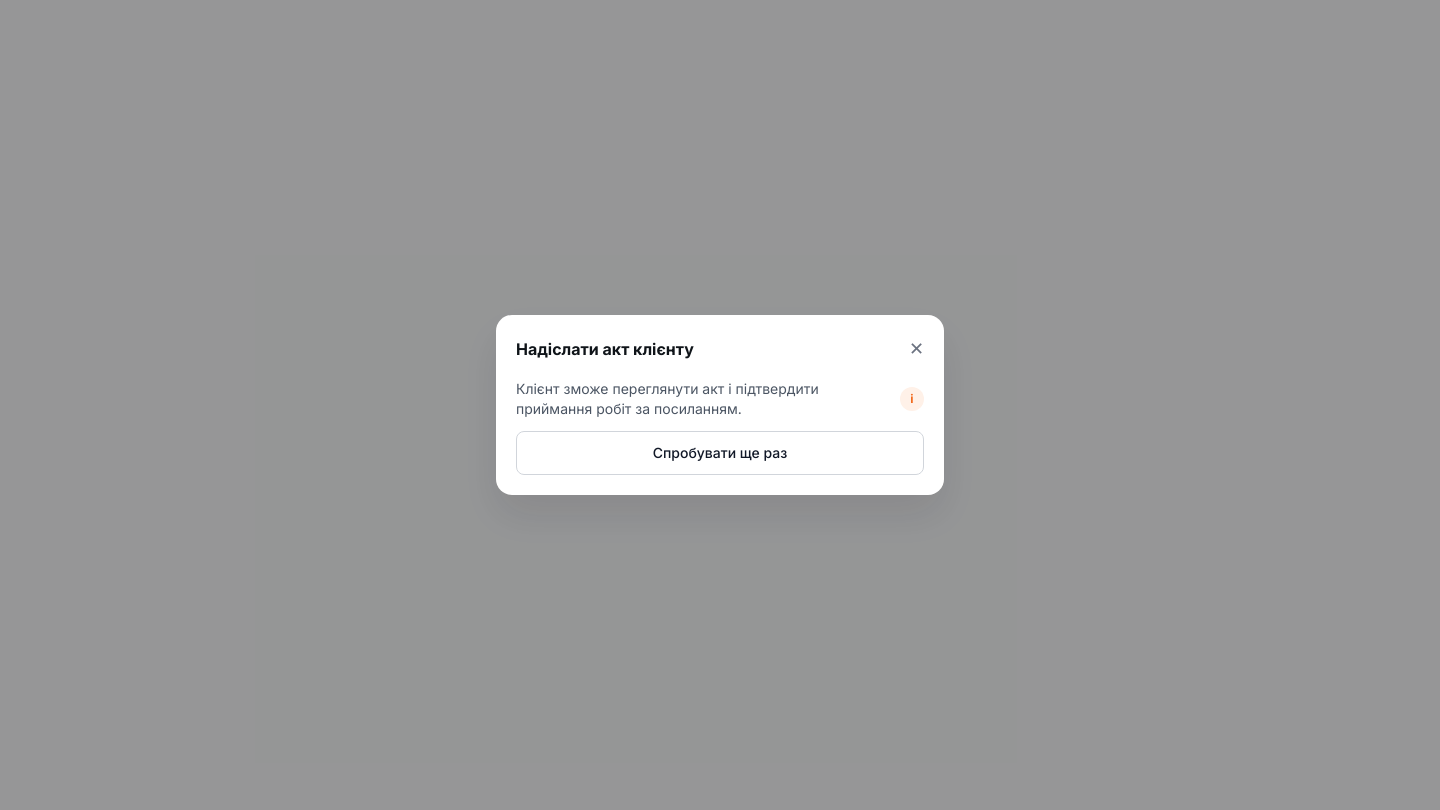
Test: ActShareSheet — a failed publish (review P1-9) › stays open with «Спробувати ще раз» instead of closing, and a retry publishes again
Click the button "Спробувати ще раз".
click(720, 453)  # box [516, 431, 924, 475]
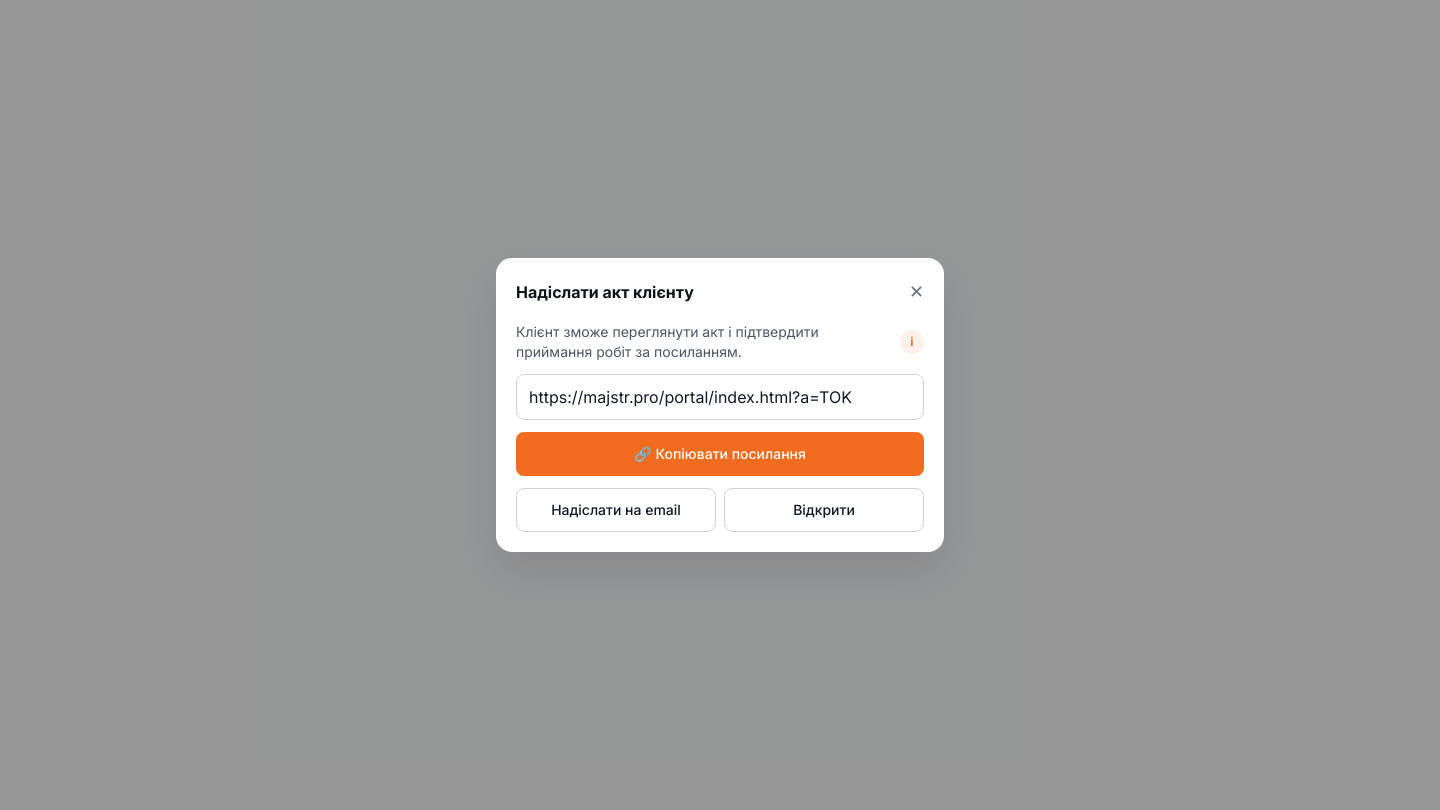
Result: the field showing "?a=TOK" is shown at [516, 374, 924, 420]
